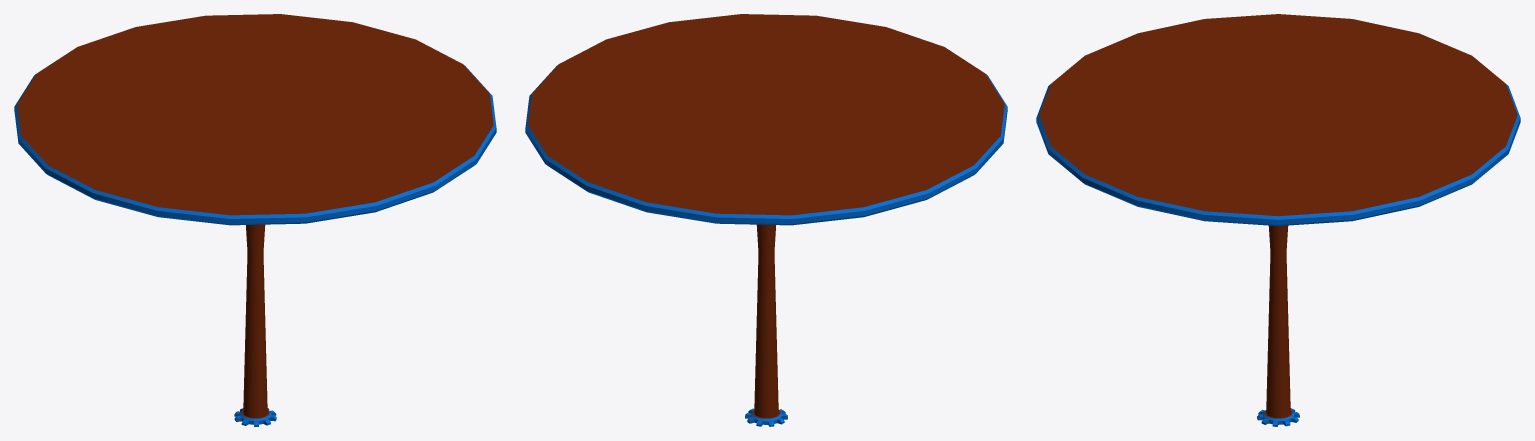
Rendered from Round_Table.fbx.
3 views of the same model, side by side, from view 1: azimuth 30°, elevation 25°; view 2: azimuth 150°, elevation 25°; view 3: azimuth 270°, elevation 25° (orthographic).
Parts seen in each view (by area): view 1: Round_Table; view 2: Round_Table; view 3: Round_Table.
Part boxes in pixels (bbox=[...]): Round_Table: bbox=[14, 14, 496, 426]; Round_Table: bbox=[525, 14, 1007, 426]; Round_Table: bbox=[1036, 14, 1520, 426].
Bounding box in the file's own units: 1.87 × 1.29 × 1.87.
